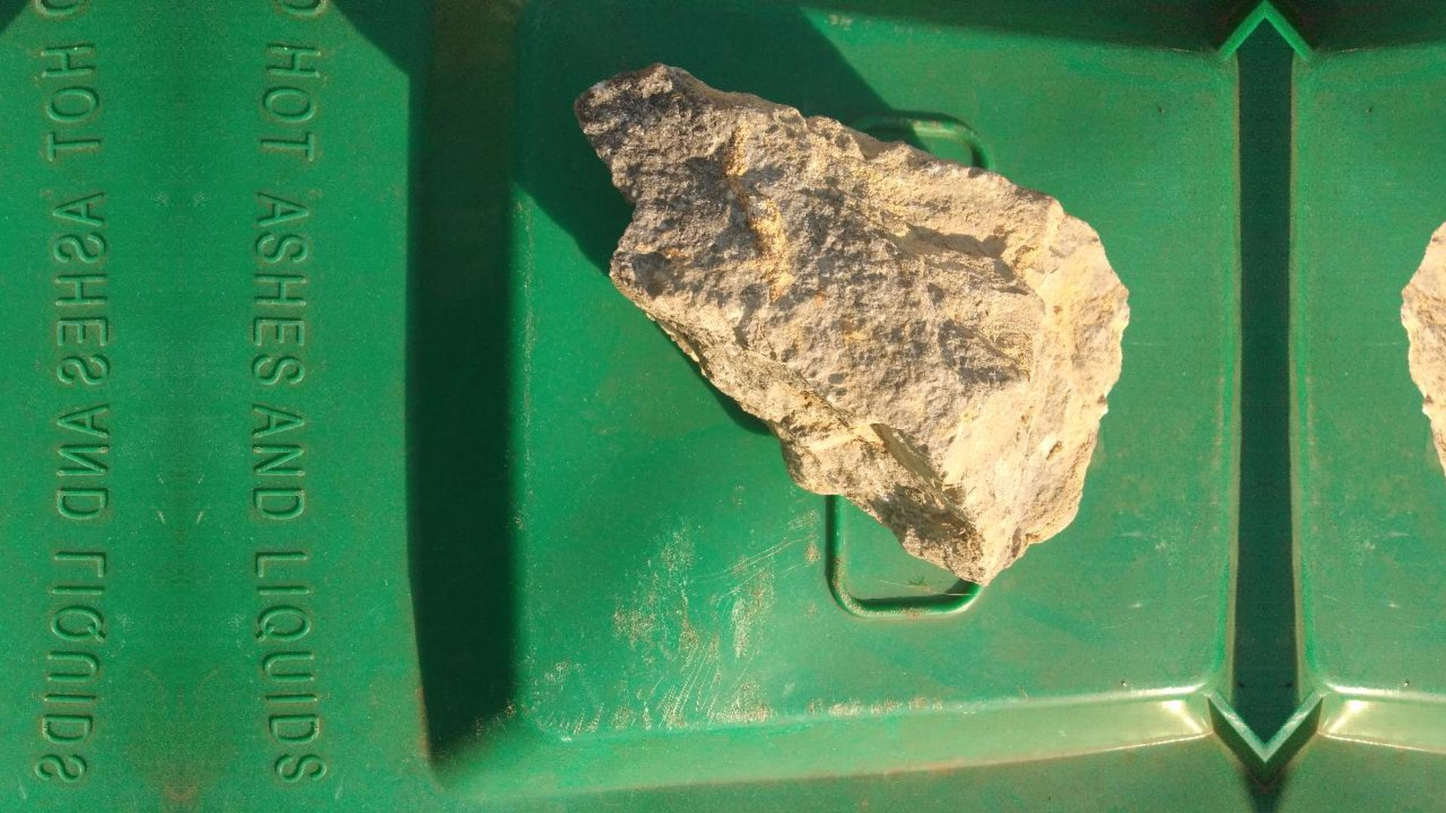rock: (574, 63, 1127, 584), (1401, 222, 1445, 470)
